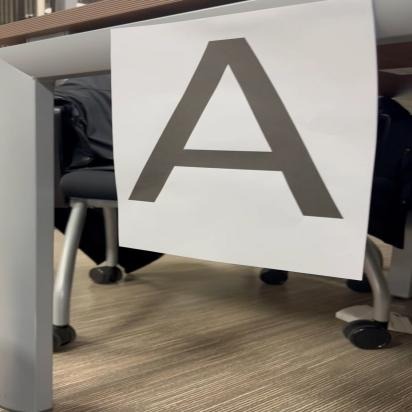seat: (126, 35, 351, 225)
